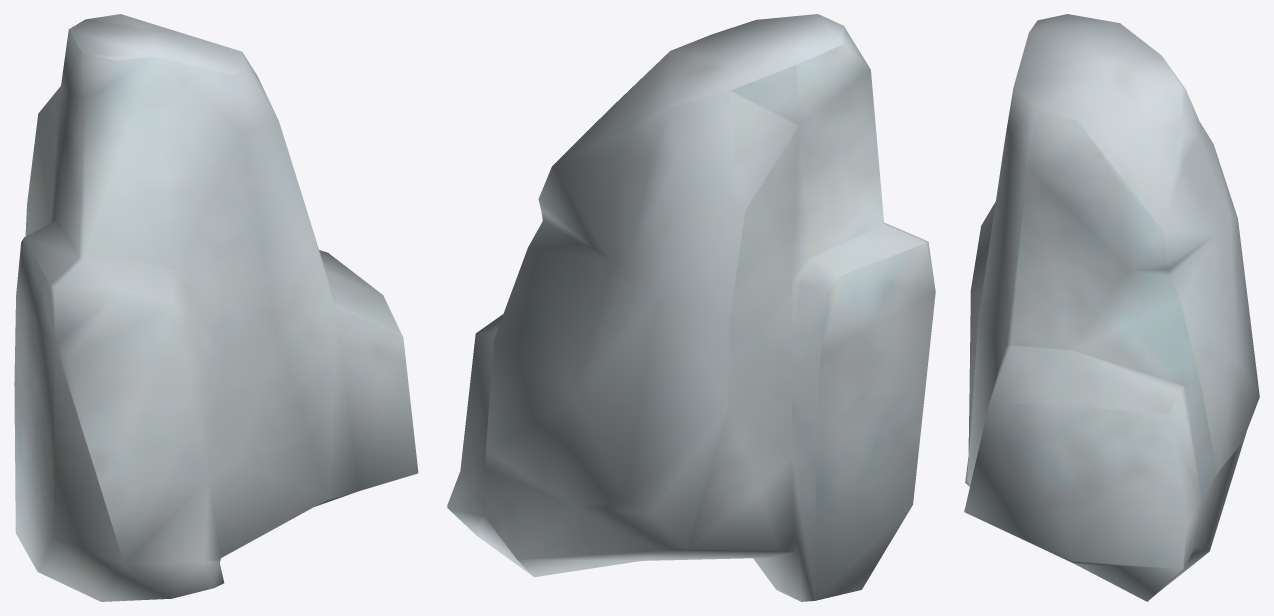
File: P_RockSpire_Rock10.obj
3 renders of one model, left to right at view 1: azimuth 30°, elevation 25°; view 2: azimuth 150°, elevation 25°; view 3: azimuth 270°, elevation 25°, orthographic. The views are drawn at different scales.
Size of the model in its own units: 7.78 by 10.77 by 6.03.
